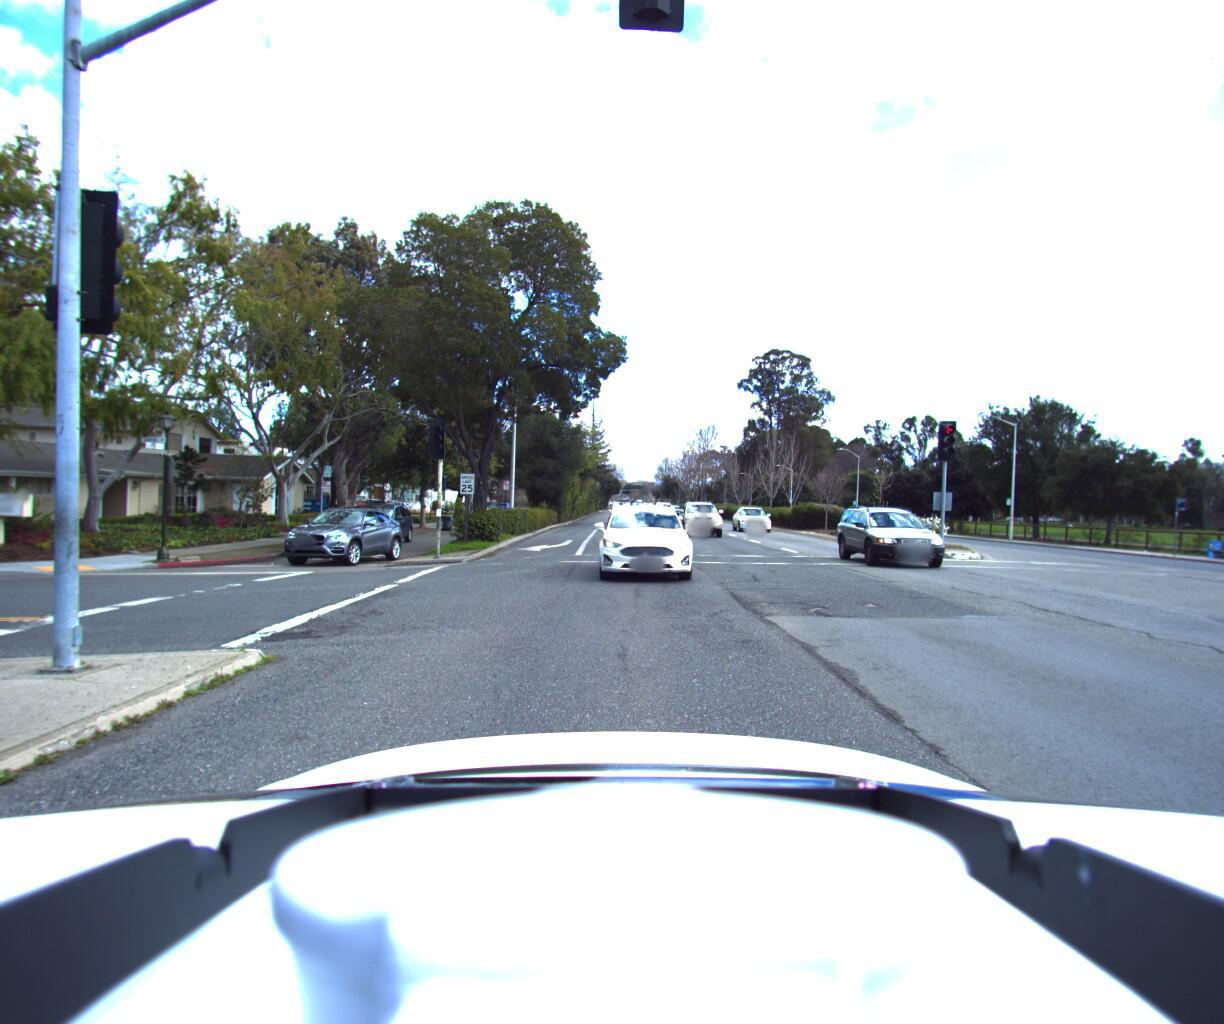car: (585, 499, 705, 596), (841, 503, 982, 580), (269, 506, 410, 575), (274, 514, 372, 564), (334, 500, 419, 548), (675, 497, 729, 541), (730, 502, 781, 536), (322, 500, 379, 524), (606, 501, 637, 527), (653, 504, 681, 525)
